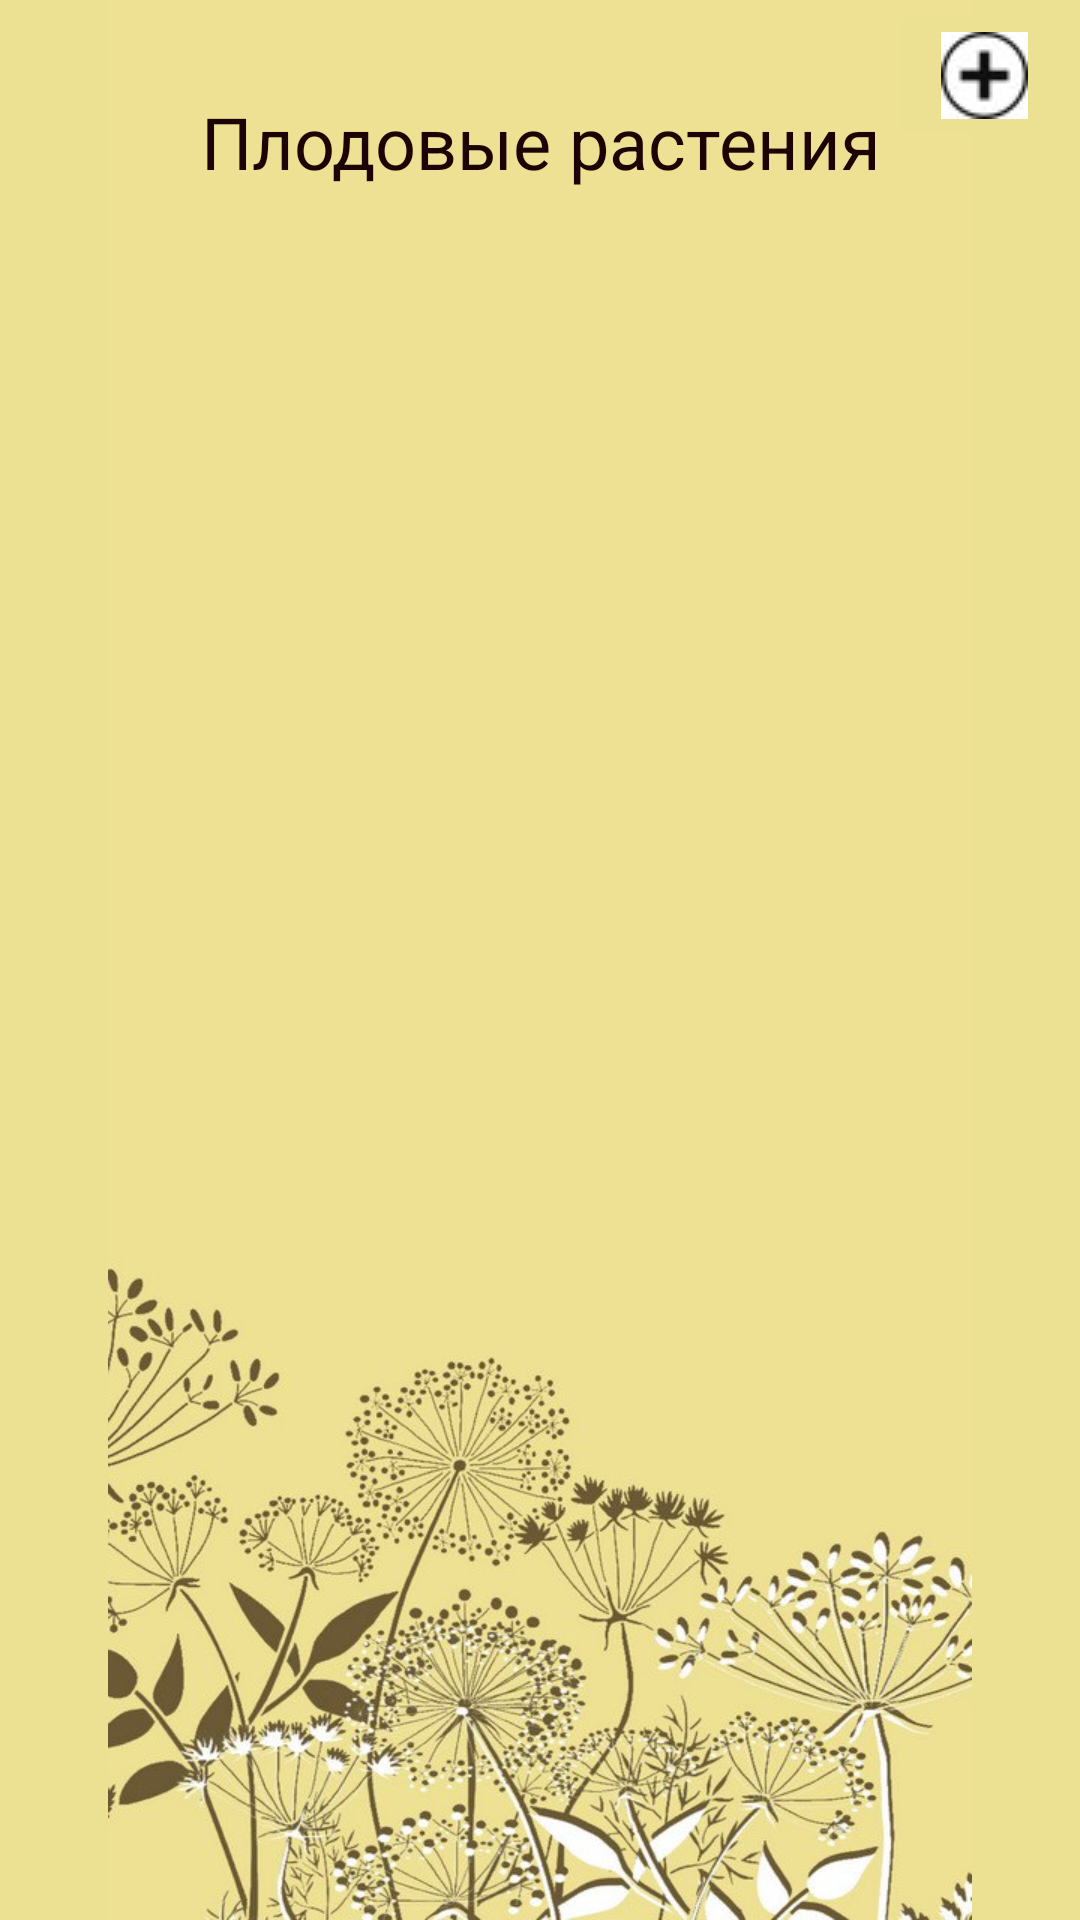

Icon click points for this 1080w x 1920h phone screenshot, format point (x, y):
add: point (984, 75)
